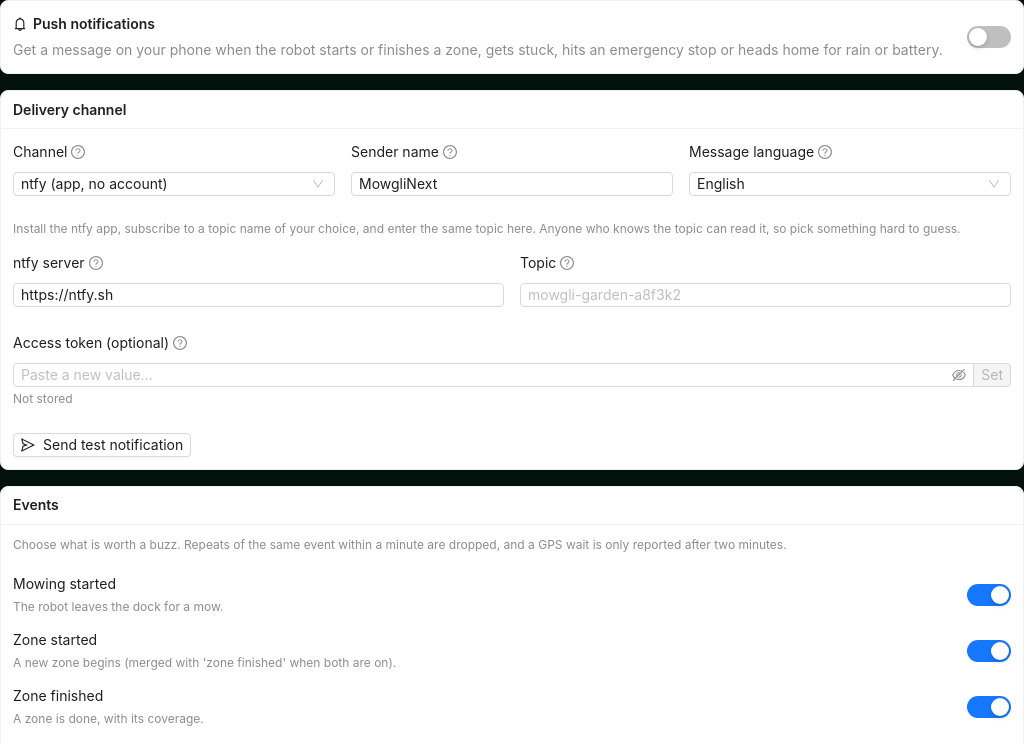
Test case: NotificationsSection › stores a pasted ntfy token without ever echoing it
This screenshot has width=1024, height=743.
Type "tk_abcdefghijklmnop" into the password field named "Access token" at point(485, 375), box x1=21 y1=364 x2=948 y2=386
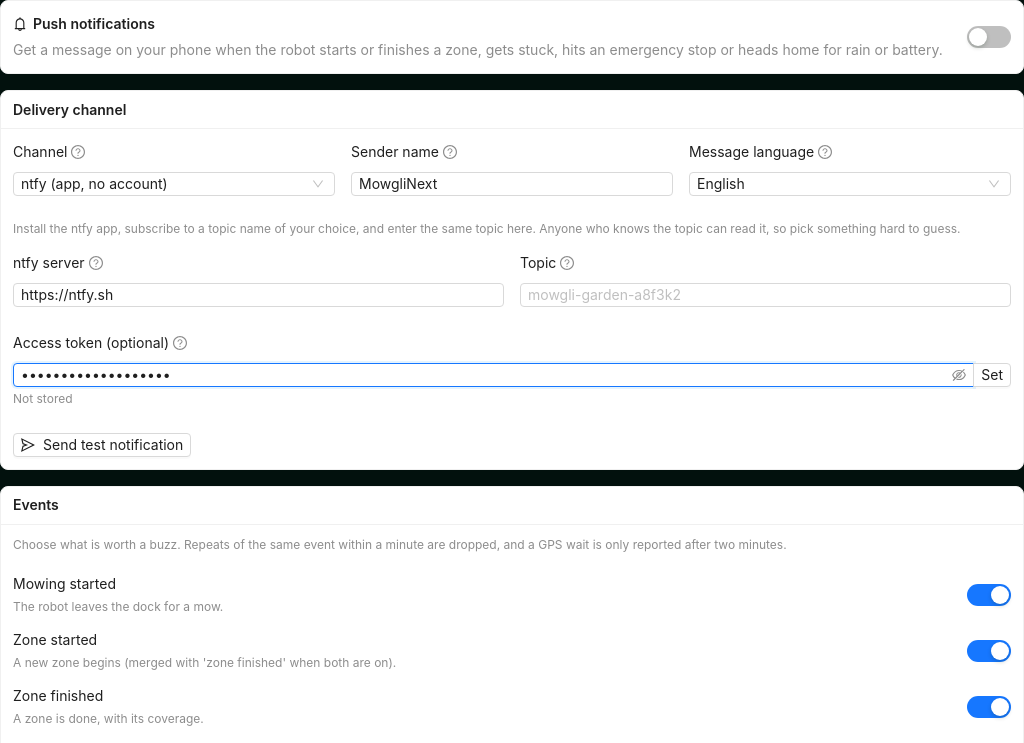
Click the button "Set" at point(992, 375), box x1=973 y1=363 x2=1011 y2=387
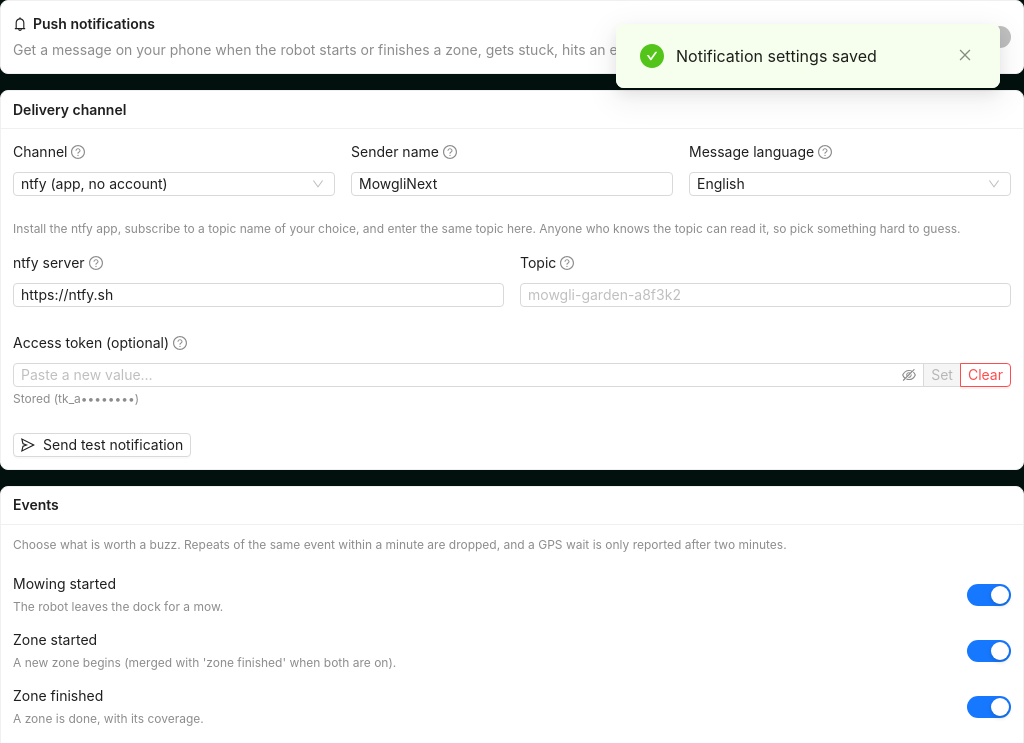
Check: the text "Stored (tk_a••••••••)" is shown, box x1=13 y1=391 x2=139 y2=406
